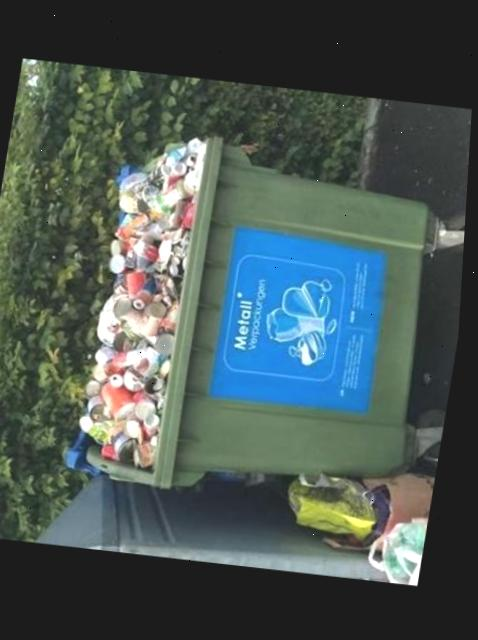Garbage: (85, 137, 208, 469), (202, 140, 231, 282)
Plastic_bottle: (153, 177, 192, 215), (136, 239, 161, 261)
can: (129, 268, 161, 309), (144, 300, 170, 338), (113, 372, 129, 387)
tin_box: (106, 381, 140, 418), (118, 431, 141, 462)
